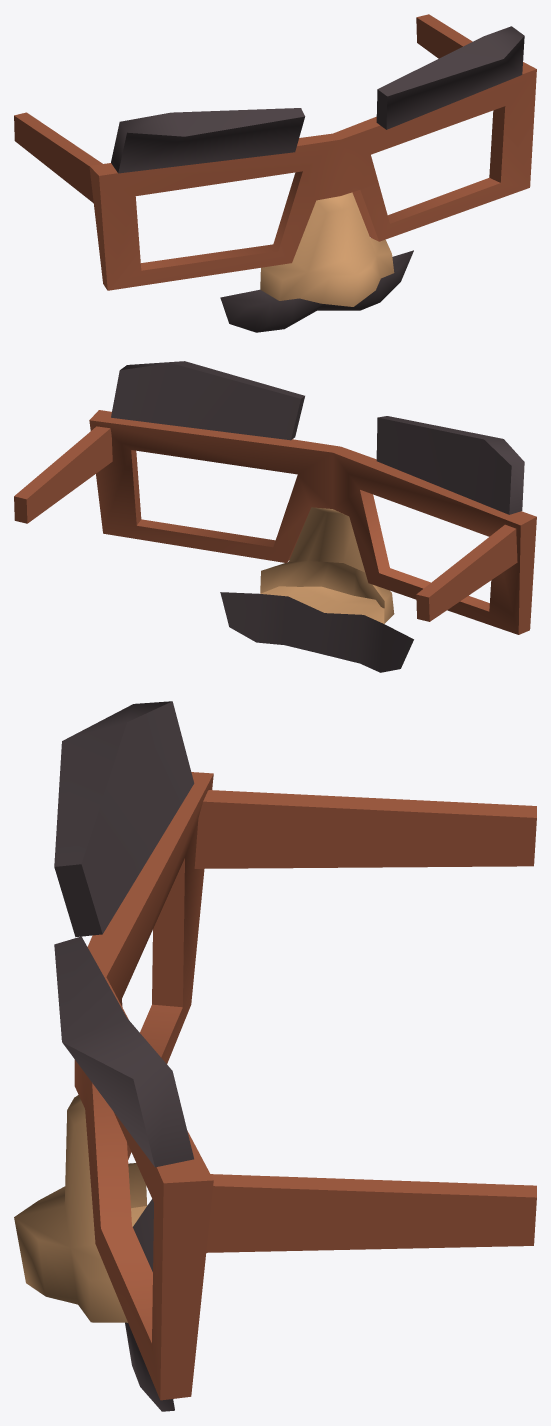
The picture shows the model from 3 angles, top to bottom: view 1: azimuth 30°, elevation 25°; view 2: azimuth 150°, elevation 25°; view 3: azimuth 270°, elevation 25°; orthographic projection. The views are drawn at different scales.
Visible parts, largest first — view 1: f_head_add_glasses_A.002; view 2: f_head_add_glasses_A.002; view 3: f_head_add_glasses_A.002.
Part boxes in pixels (x1,y1,x2,y2): f_head_add_glasses_A.002: [14, 14, 536, 332]; f_head_add_glasses_A.002: [14, 361, 536, 672]; f_head_add_glasses_A.002: [14, 701, 536, 1411].
Size of the model in its own units: 0.6178 by 0.3368 by 0.3305.
